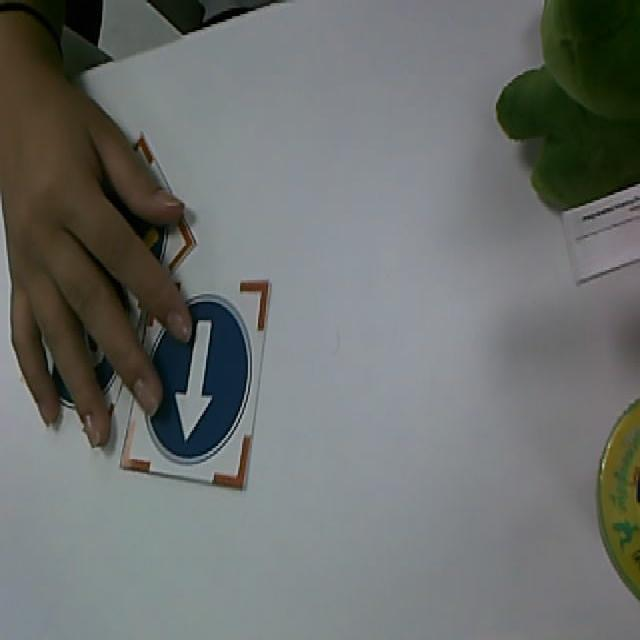straight: (126, 285, 258, 487)
